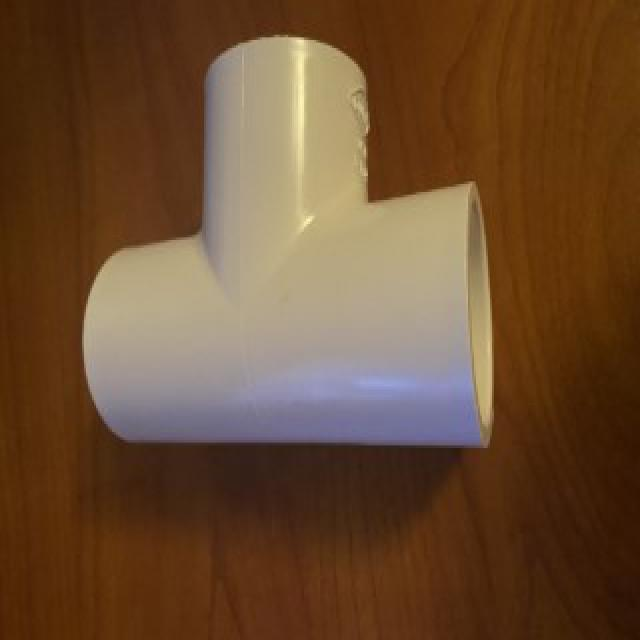T Joint: (80, 36, 494, 450)
